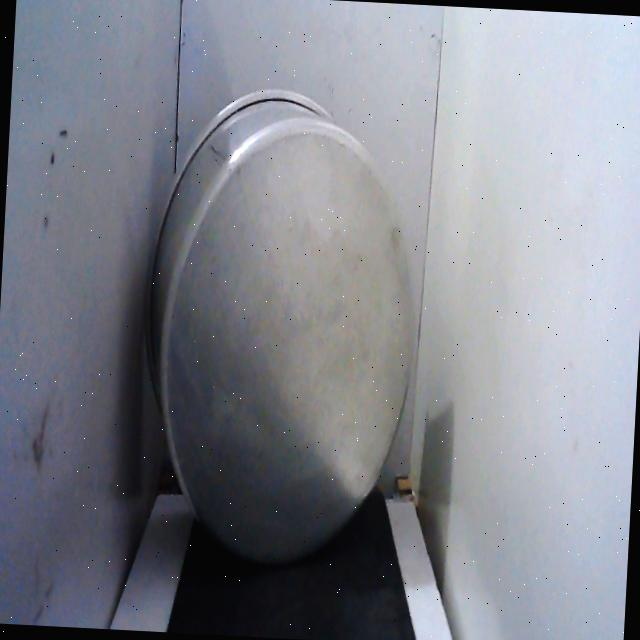metal: (122, 69, 437, 587)
